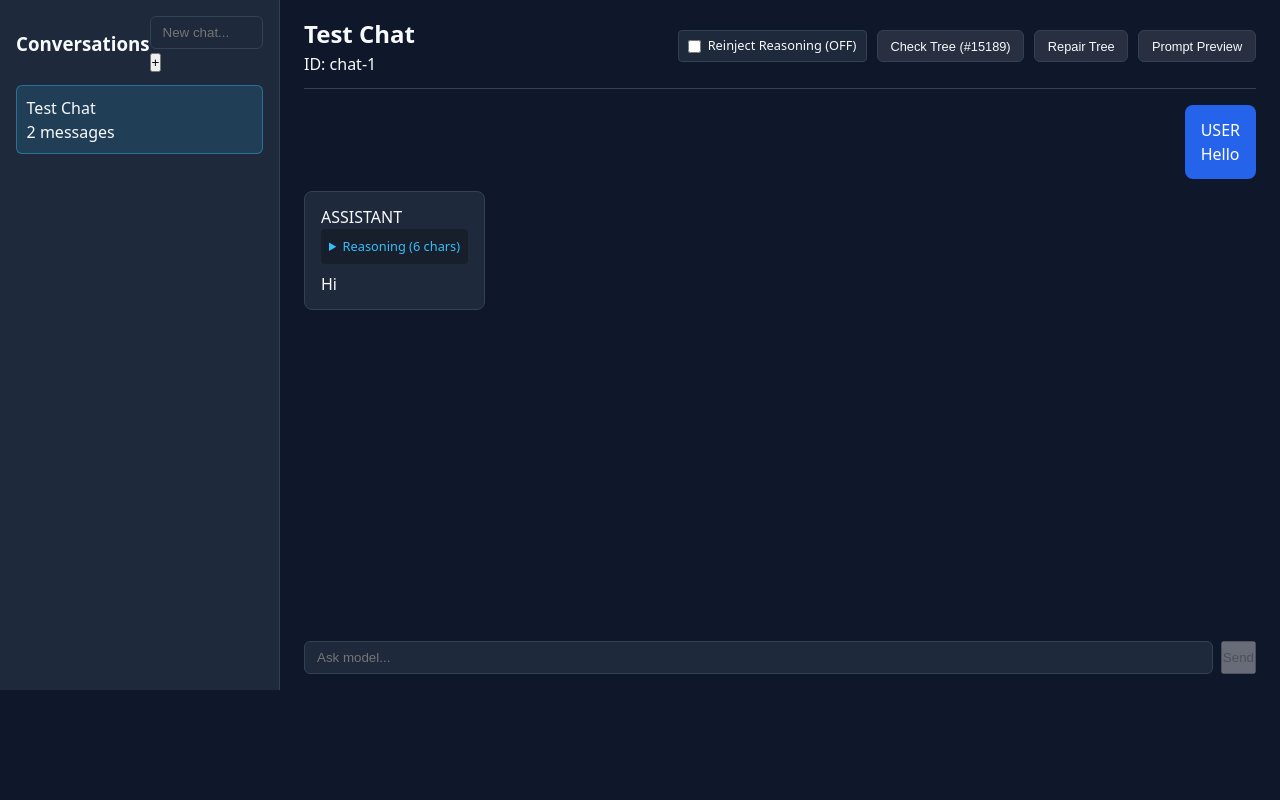
Test: ChatWorkbench Component › handles reasoning toggle switch for prompt compilation
The image size is (1280, 800).
Expected: the text "Test Chat" is shown, [27,97,96,119]
Click the checkbox at (695, 46), box [688,40,701,52]
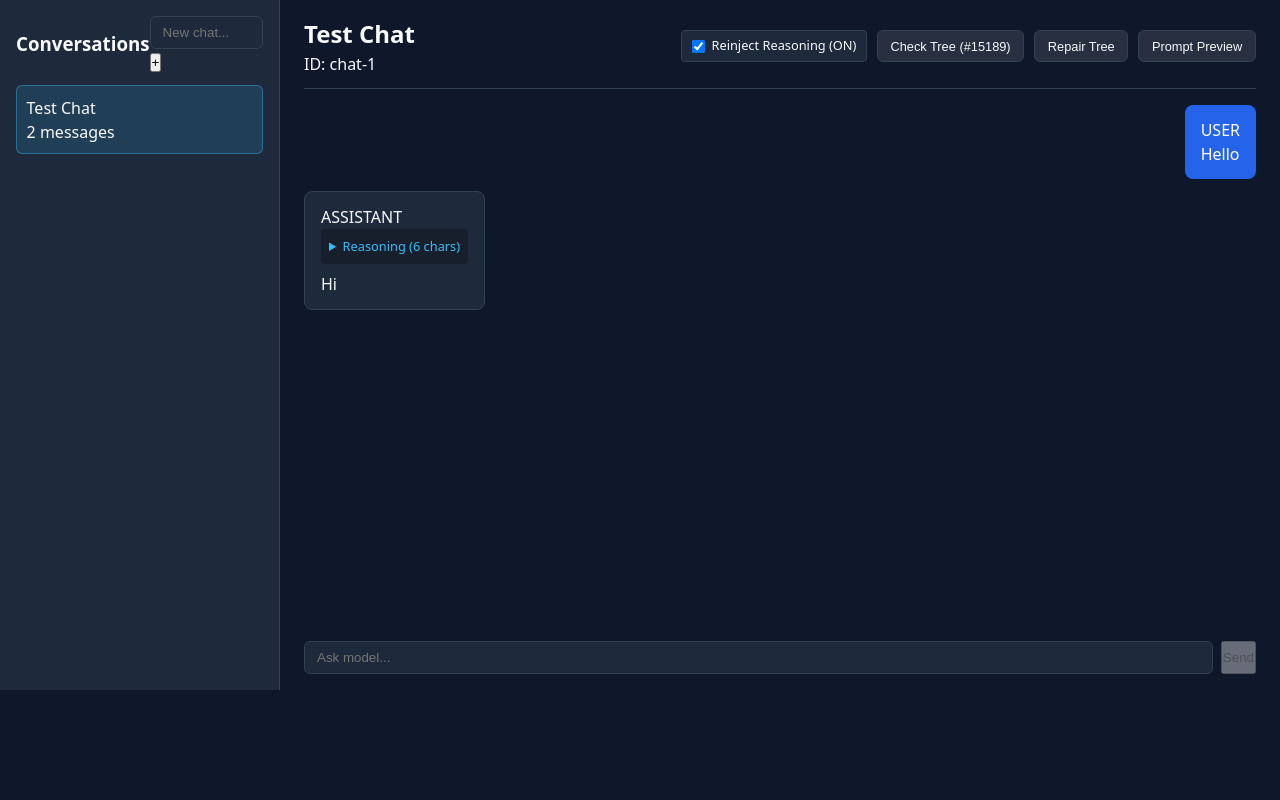
Now the checkbox is checked, box [692,40,705,52]
Now the text "Reinject Reasoning (ON)" is shown, box [712,36,856,56]
